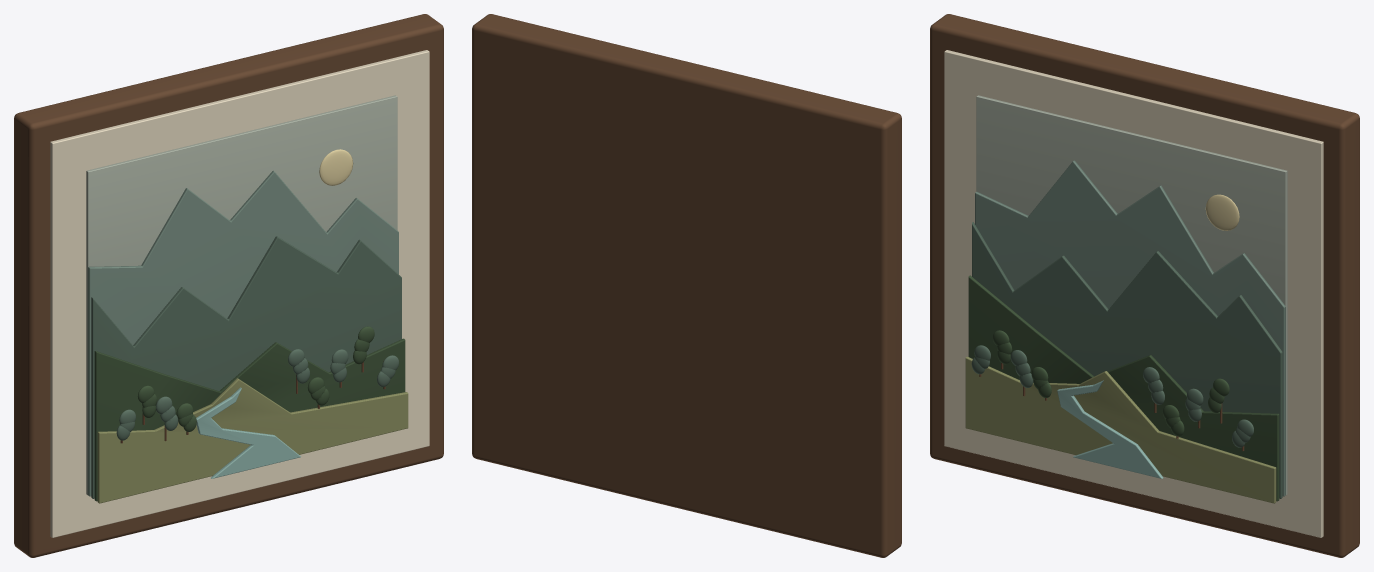
Rendered from landscape.glb.
The picture shows the model from 3 angles, left to right: view 1: azimuth 30°, elevation 25°; view 2: azimuth 150°, elevation 25°; view 3: azimuth 330°, elevation 25°; orthographic projection.
Parts seen in each view (by area): view 1: Atelier_Landscape; view 2: Atelier_Landscape; view 3: Atelier_Landscape.
Boxes of the visible parts, x1,y1,x2,y2 form: Atelier_Landscape: [14, 14, 443, 557]; Atelier_Landscape: [472, 14, 901, 557]; Atelier_Landscape: [930, 14, 1359, 557].
Size of the model in its own units: 1.1 by 1.1 by 0.1895.
